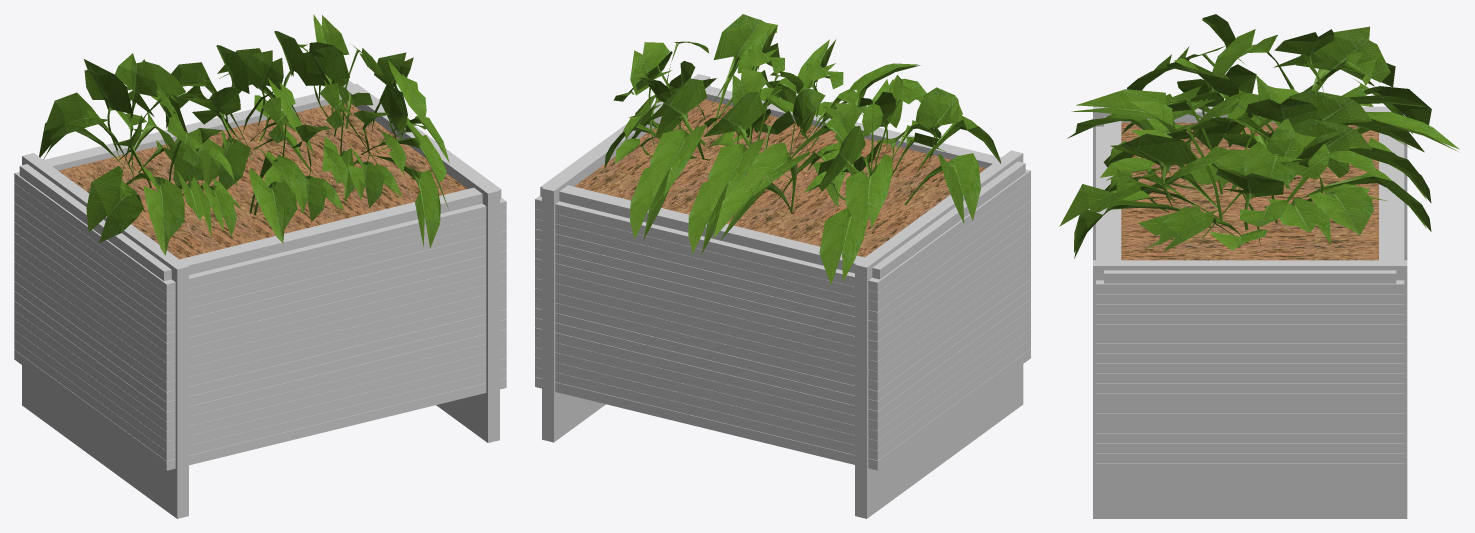
The model's file is sh-bs0-plantie.glb.
The picture shows the model from 3 angles, left to right: view 1: azimuth 30°, elevation 25°; view 2: azimuth 150°, elevation 25°; view 3: azimuth 270°, elevation 25°; orthographic projection.
Visible parts, largest first — view 1: Cube.003, Sapling_objArch310.000, Cube.004; view 2: Cube.003, Sapling_objArch310.000, Cube.004; view 3: Cube.003, Sapling_objArch310.000, Cube.004.
Part boxes in pixels (<box>): Cube.003: <box>14,80,506,518</box>; Sapling_objArch310.000: <box>39,14,449,255</box>; Cube.004: <box>58,101,467,259</box>; Cube.003: <box>535,74,1030,518</box>; Sapling_objArch310.000: <box>604,14,1000,285</box>; Cube.004: <box>574,99,986,257</box>; Cube.003: <box>1093,106,1407,518</box>; Sapling_objArch310.000: <box>1059,14,1459,258</box>; Cube.004: <box>1121,122,1378,260</box>.
Size of the model in its own units: 0.9991 by 0.9986 by 0.991.
3 materials, 2 textured.
